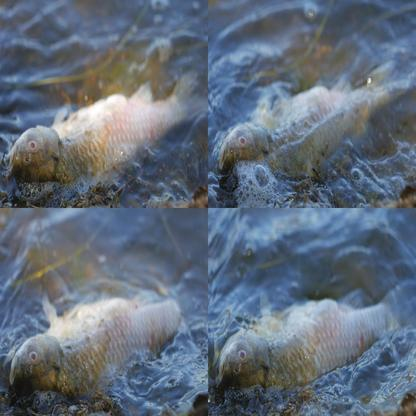deceased fish: (216, 75, 403, 186), (4, 283, 183, 392), (218, 289, 400, 391), (11, 87, 187, 176)
